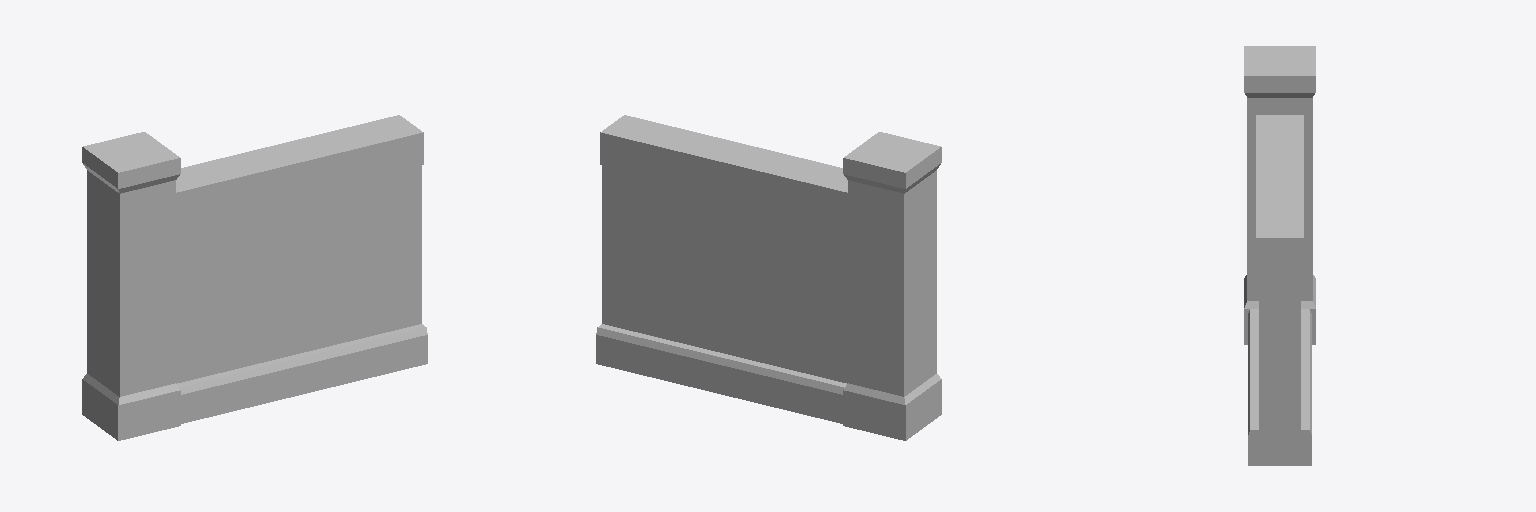
File: brickWallEnd.obj
The picture shows the model from 3 angles: view 1: azimuth 30°, elevation 25°; view 2: azimuth 150°, elevation 25°; view 3: azimuth 270°, elevation 25°; orthographic projection.
Visible parts, largest first — view 1: brickWallEnd; view 2: brickWallEnd; view 3: brickWallEnd.
Boxes of the visible parts, box(x1,y1,x2,y2) form: brickWallEnd: box(82, 115, 427, 440); brickWallEnd: box(596, 115, 941, 440); brickWallEnd: box(1244, 46, 1315, 465).
Bounding box in the file's own units: 1 × 0.8239 × 0.2.